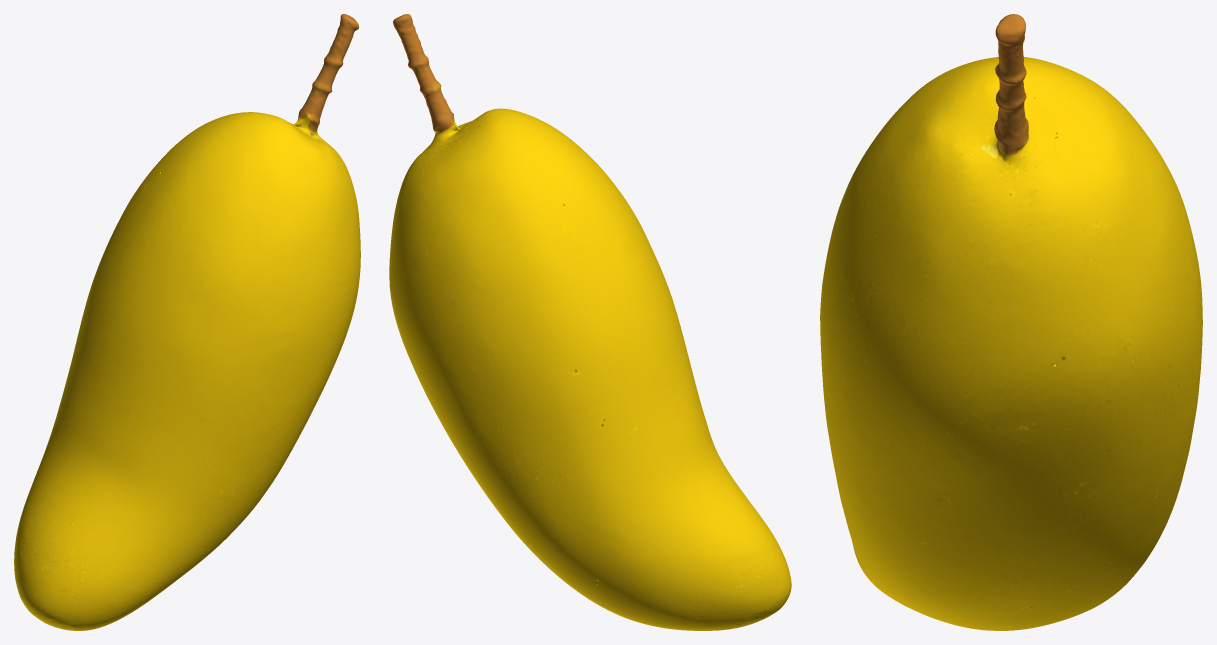
File: mango.glb
The picture shows the model from 3 angles, left to right: view 1: azimuth 30°, elevation 25°; view 2: azimuth 150°, elevation 25°; view 3: azimuth 270°, elevation 25°; orthographic projection. The views are drawn at different scales.
Parts seen in each view (by area): view 1: Mesh_0; view 2: Mesh_0; view 3: Mesh_0.
Boxes of the visible parts, <box> form: Mesh_0: <box>14,14,360,630</box>; Mesh_0: <box>389,14,791,630</box>; Mesh_0: <box>820,14,1202,630</box>.
Size of the model in its own units: 1.24 by 1.77 by 0.7728.
Materials: 1 (1 with a texture image).
